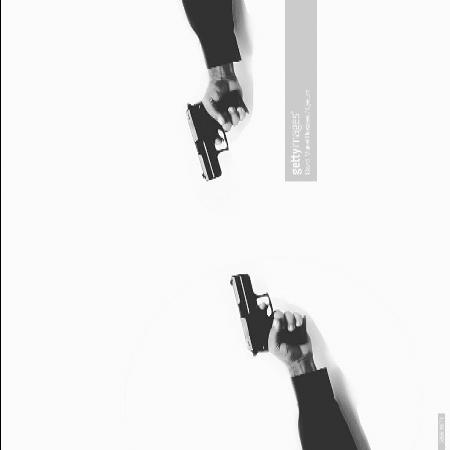Pistol: (220, 272, 308, 368), (177, 87, 244, 187)
